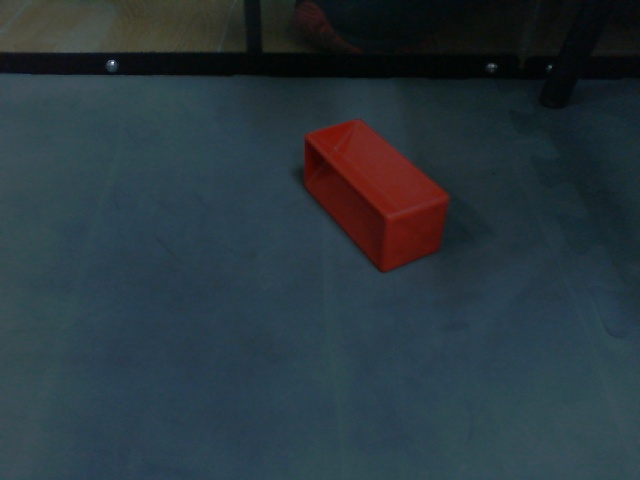RedSample: (301, 116, 451, 275)
